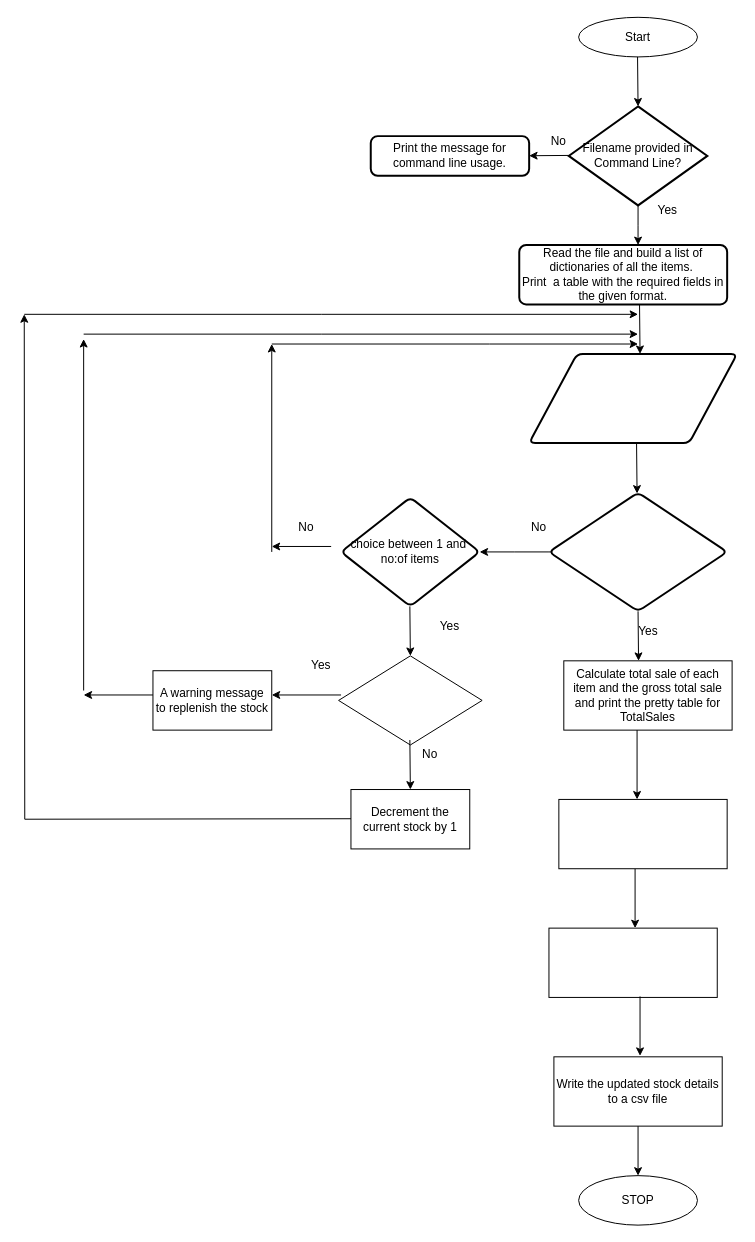
Some shapes in this 755 by 1242 pixel diagram are drawn without their labels. Each missing label, with the centre of its shape:
Calculate the demand for each item and print the pretty table for Restock report: pixel 632 962
Calculate trend of sale of each item and print the pretty table for SalesTrend: pixel 642 833
choice =Input for sale (between 1 and no:of items in the list) or end of day,e?: pixel 633 398
choice is e?: pixel 637 551
Is the current stock 0?: pixel 410 700
